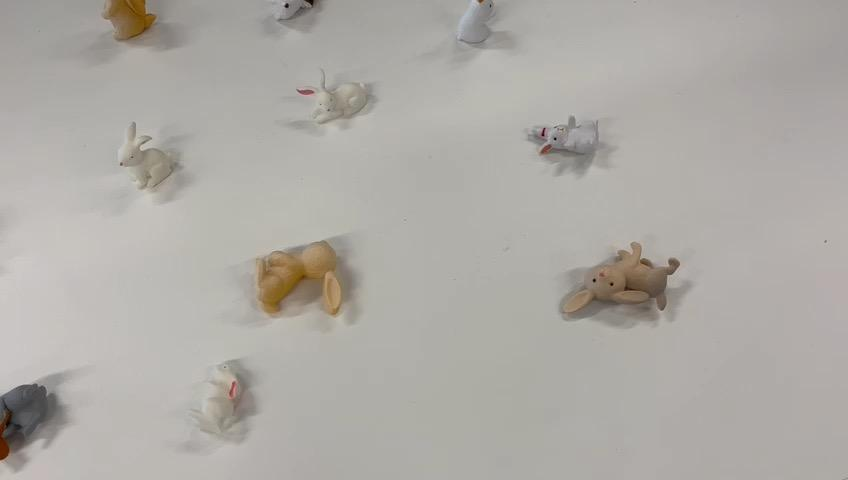pet: (556, 237, 687, 324), (253, 237, 344, 320), (295, 63, 384, 129), (184, 357, 248, 445), (116, 120, 181, 195), (525, 109, 606, 164), (93, 0, 159, 46), (451, 0, 504, 47), (265, 0, 324, 28)
